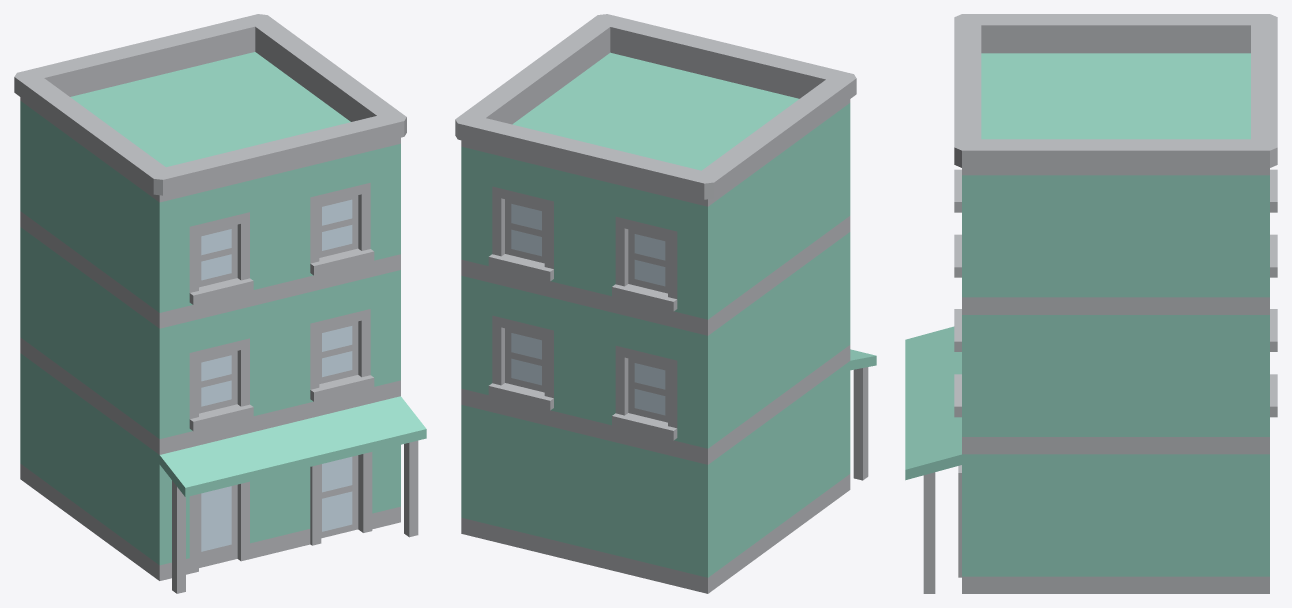
File: small.glb
The picture shows the model from 3 angles, left to right: view 1: azimuth 30°, elevation 25°; view 2: azimuth 150°, elevation 25°; view 3: azimuth 270°, elevation 25°; orthographic projection. The views are drawn at different scales.
Visible parts, largest first — view 1: small_buildingD; view 2: small_buildingD; view 3: small_buildingD.
Part boxes in pixels (x1=…): small_buildingD: x1=14, y1=14, x2=426, y2=593; small_buildingD: x1=455, y1=14, x2=876, y2=593; small_buildingD: x1=905, y1=14, x2=1277, y2=593.
Size of the model in its own units: 0.84 by 1.28 by 0.9679.
2 materials, 1 textured.
